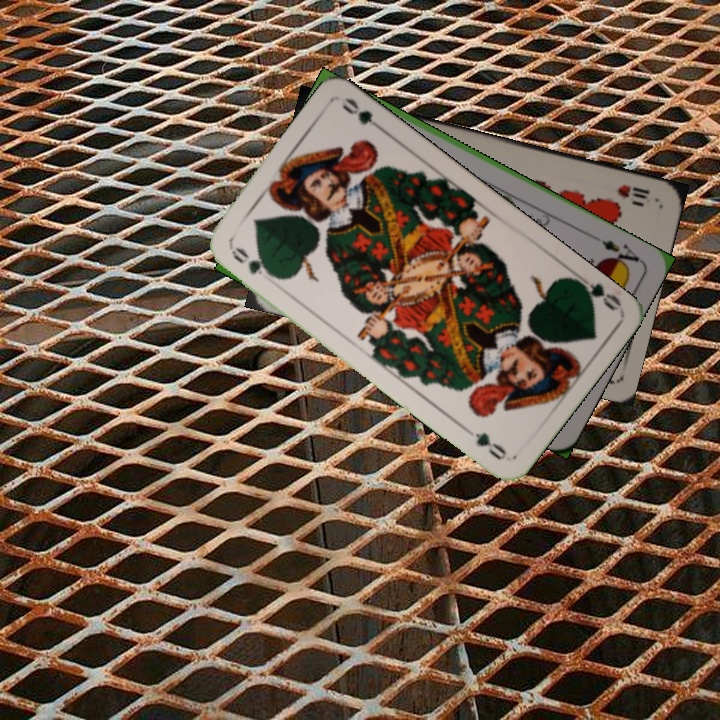EA: (597, 235, 644, 271)
GO: (568, 269, 623, 314), (227, 242, 279, 281)
H10: (613, 180, 653, 208)
